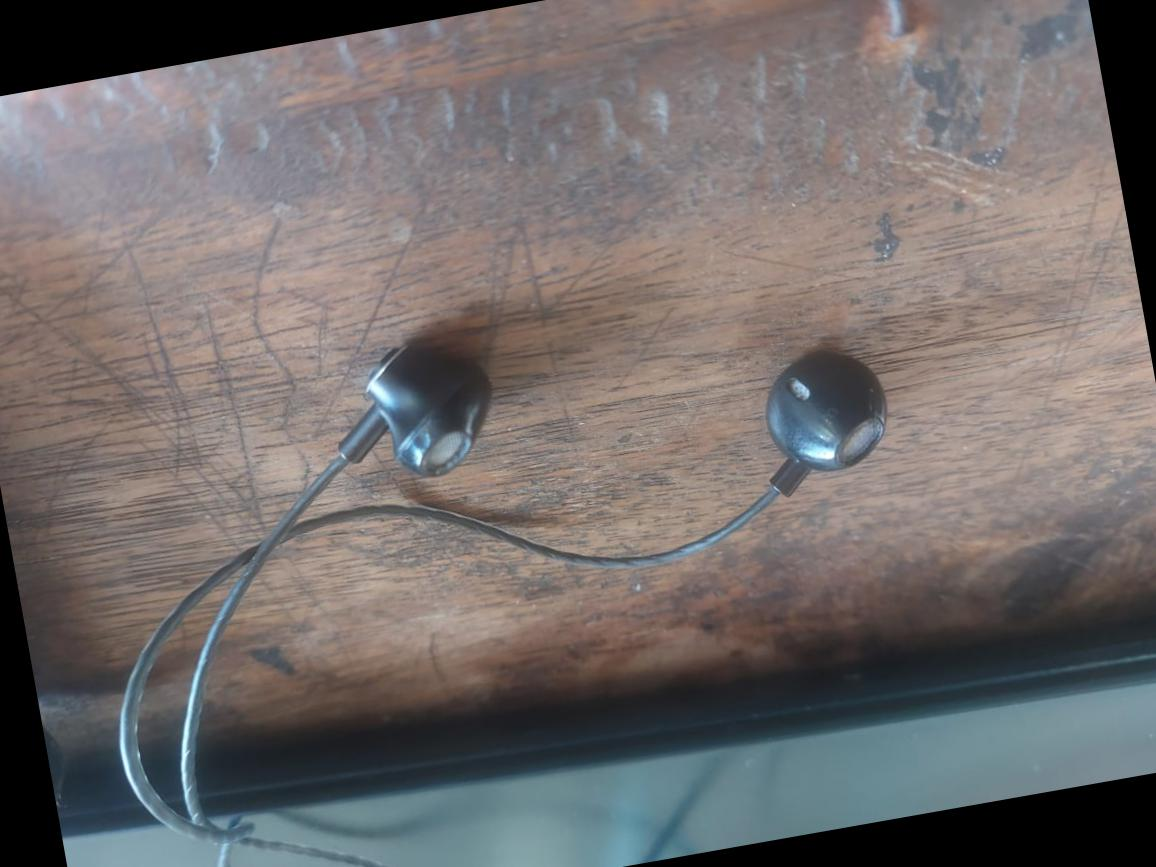Earphone: (716, 304, 930, 536), (294, 317, 520, 517)
